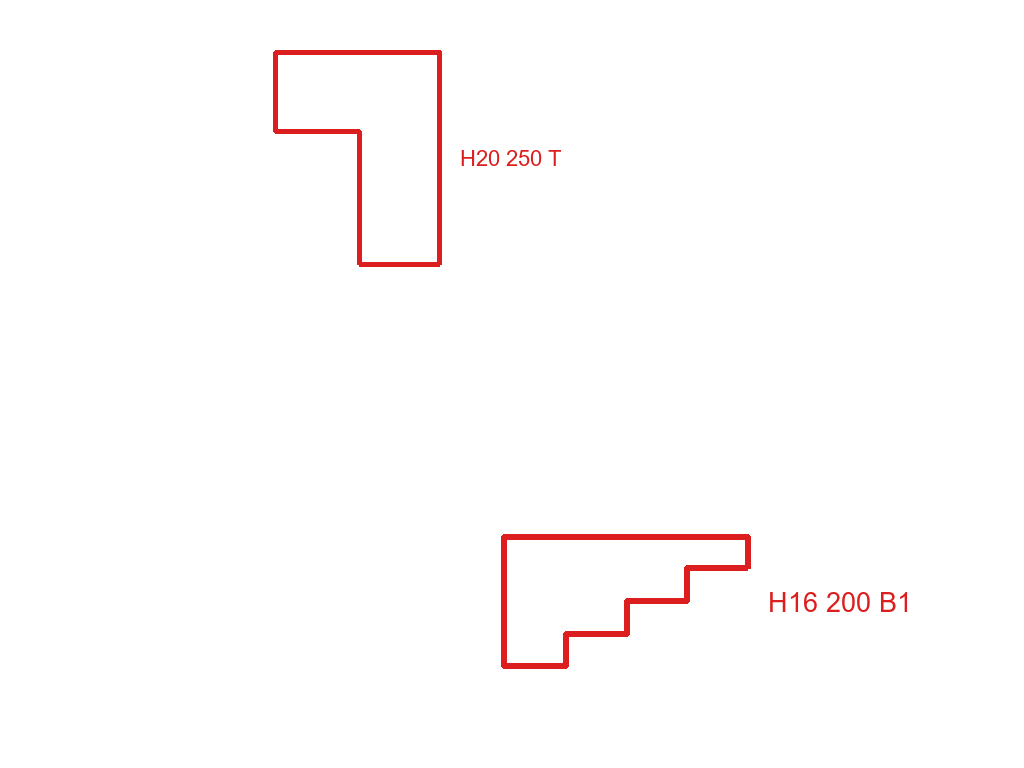shape: (271, 48, 444, 269), (500, 531, 753, 672)
text: (766, 590, 914, 614), (458, 148, 563, 168)
